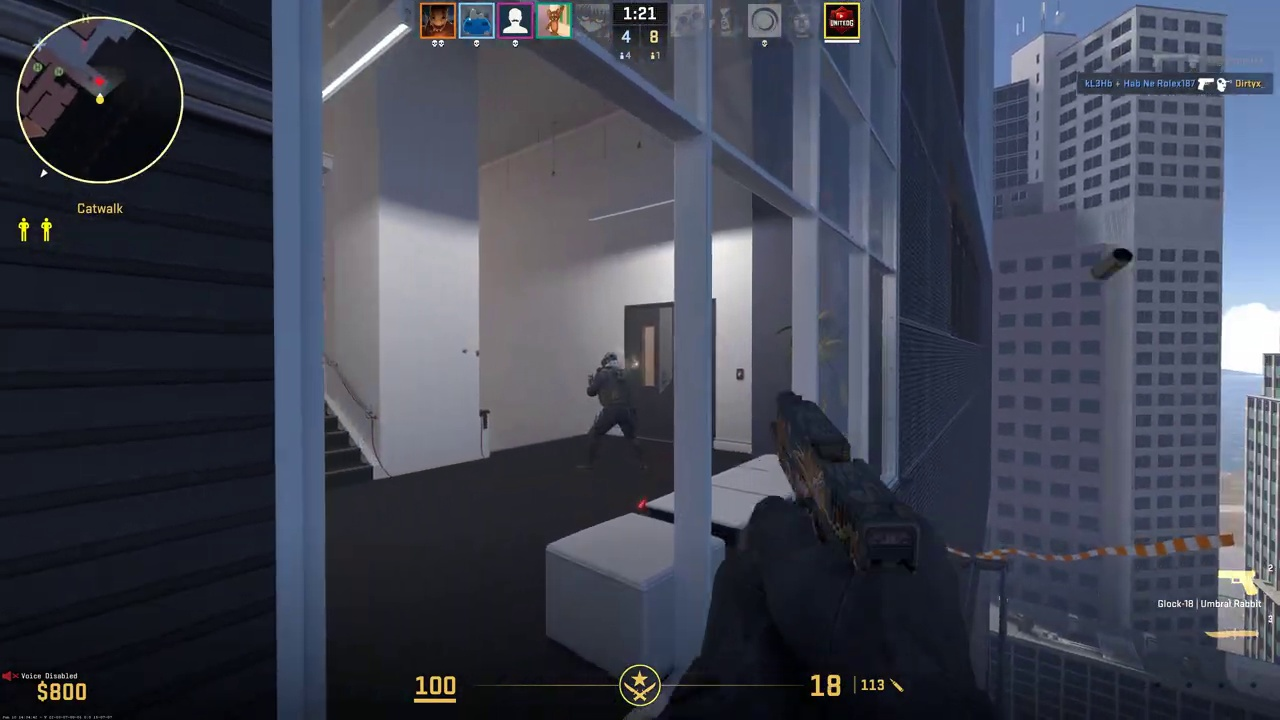CT: (584, 353, 644, 470)
